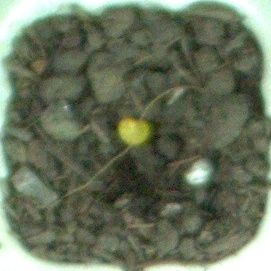pepper seed: (38, 40, 192, 190)
